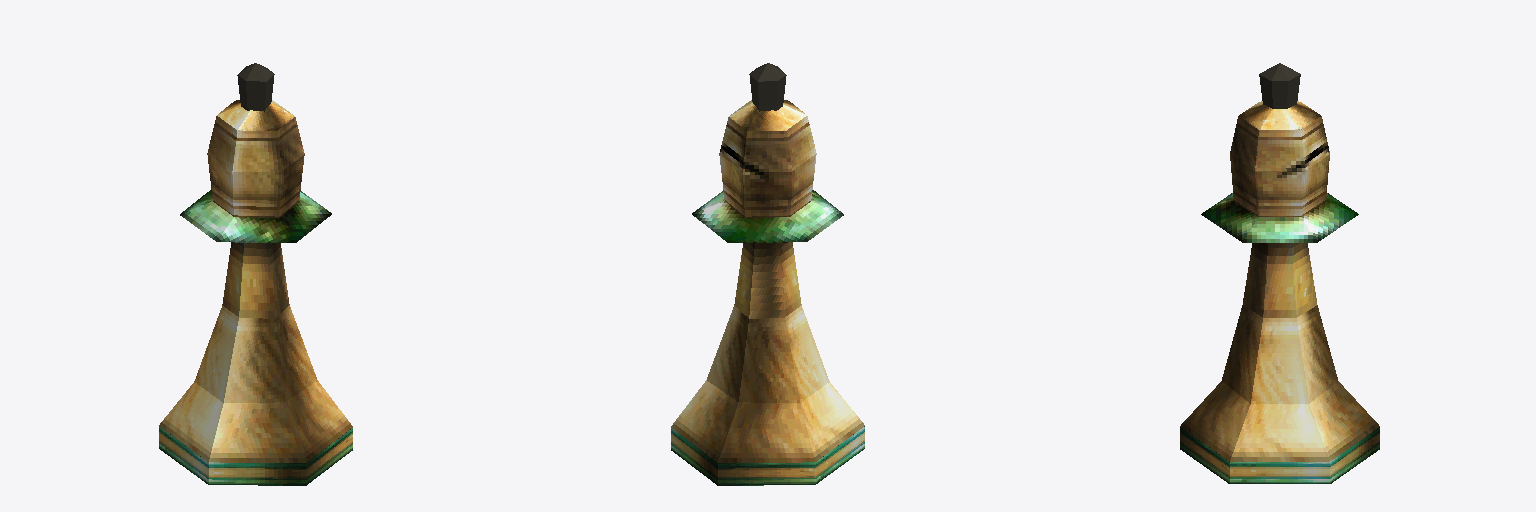
3 views of the same model, side by side, from view 1: azimuth 30°, elevation 25°; view 2: azimuth 150°, elevation 25°; view 3: azimuth 270°, elevation 25° (orthographic).
Parts seen in each view (by area): view 1: Mesh4 Group5 Group1 Model, Mesh2 Group3 Group1 Model, Mesh1 Group2 Group1 Model, Mesh3 Group4 Group1 Model; view 2: Mesh4 Group5 Group1 Model, Mesh2 Group3 Group1 Model, Mesh1 Group2 Group1 Model, Mesh3 Group4 Group1 Model; view 3: Mesh4 Group5 Group1 Model, Mesh2 Group3 Group1 Model, Mesh1 Group2 Group1 Model, Mesh3 Group4 Group1 Model.
Boxes of the visible parts, x1=… form: Mesh4 Group5 Group1 Model: x1=159, y1=242, x2=352, y2=485; Mesh2 Group3 Group1 Model: x1=207, y1=100, x2=304, y2=217; Mesh1 Group2 Group1 Model: x1=180, y1=190, x2=331, y2=242; Mesh3 Group4 Group1 Model: x1=237, y1=63, x2=274, y2=111; Mesh4 Group5 Group1 Model: x1=671, y1=242, x2=864, y2=485; Mesh2 Group3 Group1 Model: x1=719, y1=100, x2=816, y2=217; Mesh1 Group2 Group1 Model: x1=692, y1=190, x2=843, y2=242; Mesh3 Group4 Group1 Model: x1=749, y1=63, x2=786, y2=111; Mesh4 Group5 Group1 Model: x1=1180, y1=243, x2=1379, y2=483; Mesh2 Group3 Group1 Model: x1=1230, y1=101, x2=1329, y2=216; Mesh1 Group2 Group1 Model: x1=1201, y1=193, x2=1358, y2=242; Mesh3 Group4 Group1 Model: x1=1259, y1=63, x2=1300, y2=108.
Bounding box in the file's own units: 1.89 × 4.82 × 2.27.
10 materials, 8 textured.